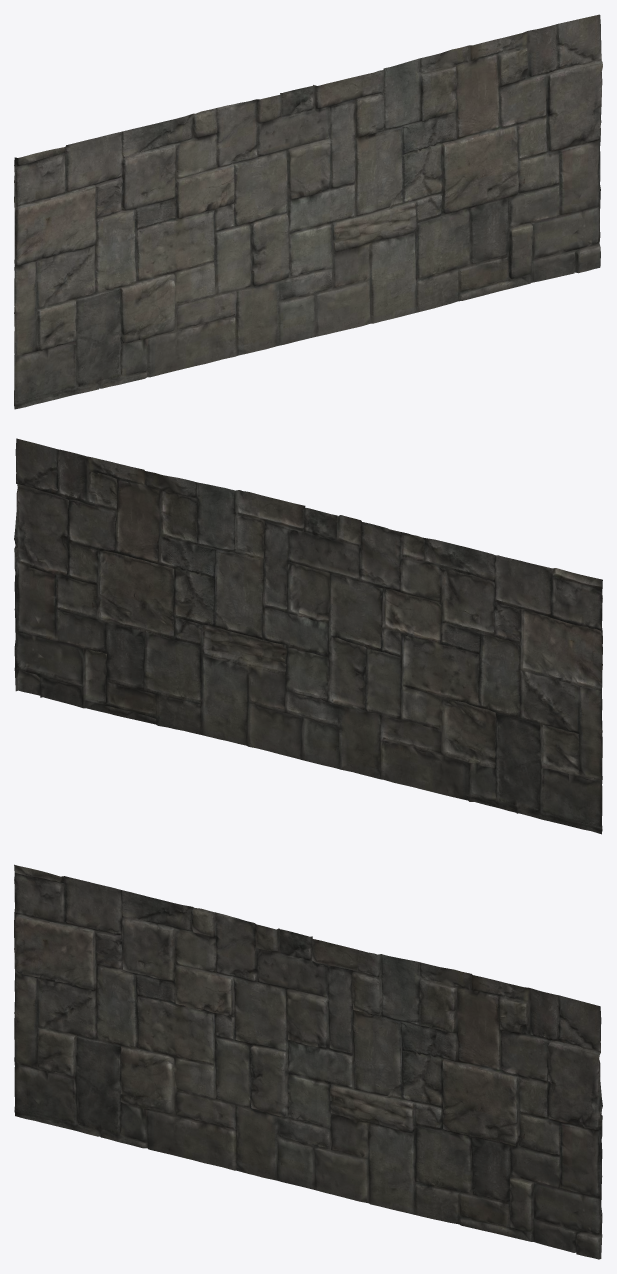
Rendered from floor_panel_v2.glb.
3 views of the same model, one above another, from view 1: azimuth 30°, elevation 25°; view 2: azimuth 150°, elevation 25°; view 3: azimuth 330°, elevation 25° (orthographic).
Visible parts, largest first — view 1: PX Concrete Wall; view 2: PX Concrete Wall; view 3: PX Concrete Wall.
Part boxes in pixels (x1,y1,x2,y2): PX Concrete Wall: [14, 14, 602, 409]; PX Concrete Wall: [14, 438, 602, 834]; PX Concrete Wall: [14, 864, 602, 1259].
Size of the model in its own units: 5.15 by 2.12 by 0.074.
Materials: 1 (1 with a texture image).
